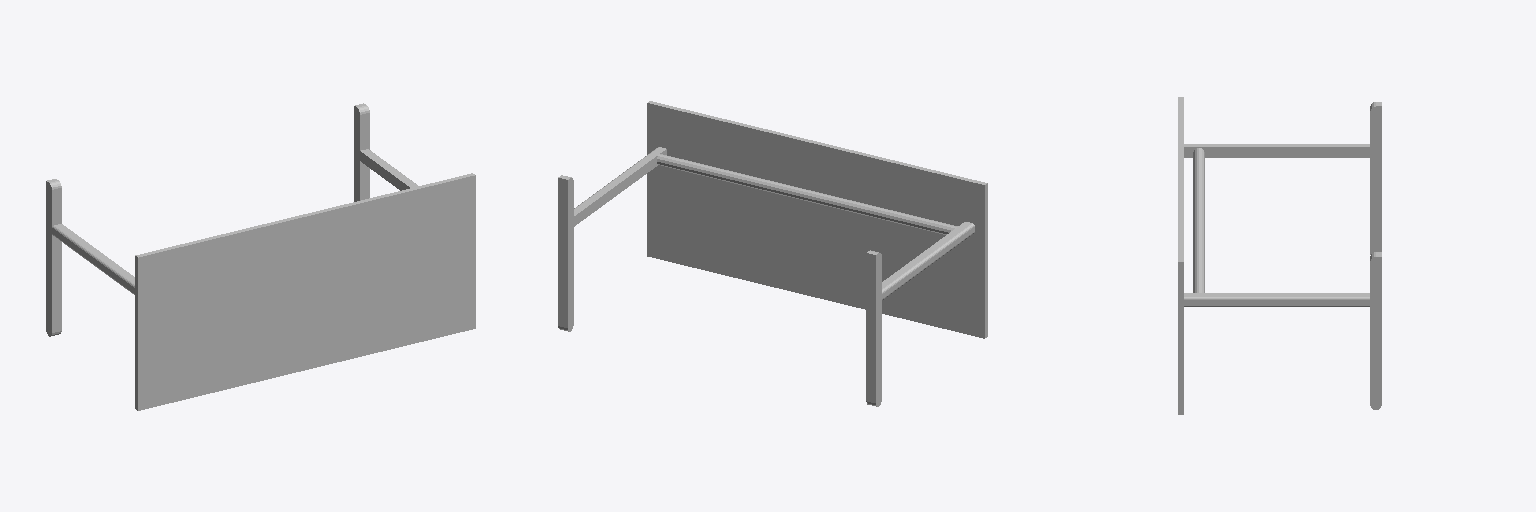
Rendered from 0_Tisch.obj.
The picture shows the model from 3 angles: view 1: azimuth 30°, elevation 25°; view 2: azimuth 150°, elevation 25°; view 3: azimuth 270°, elevation 25°; orthographic projection.
Parts seen in each view (by area): view 1: Tisch; view 2: Tisch; view 3: Tisch.
Part boxes in pixels (x1,y1,x2,y2): Tisch: (46,103,475,410); Tisch: (558,101,987,406); Tisch: (1178,97,1381,414).
Size of the model in its own units: 69 by 30 by 36.